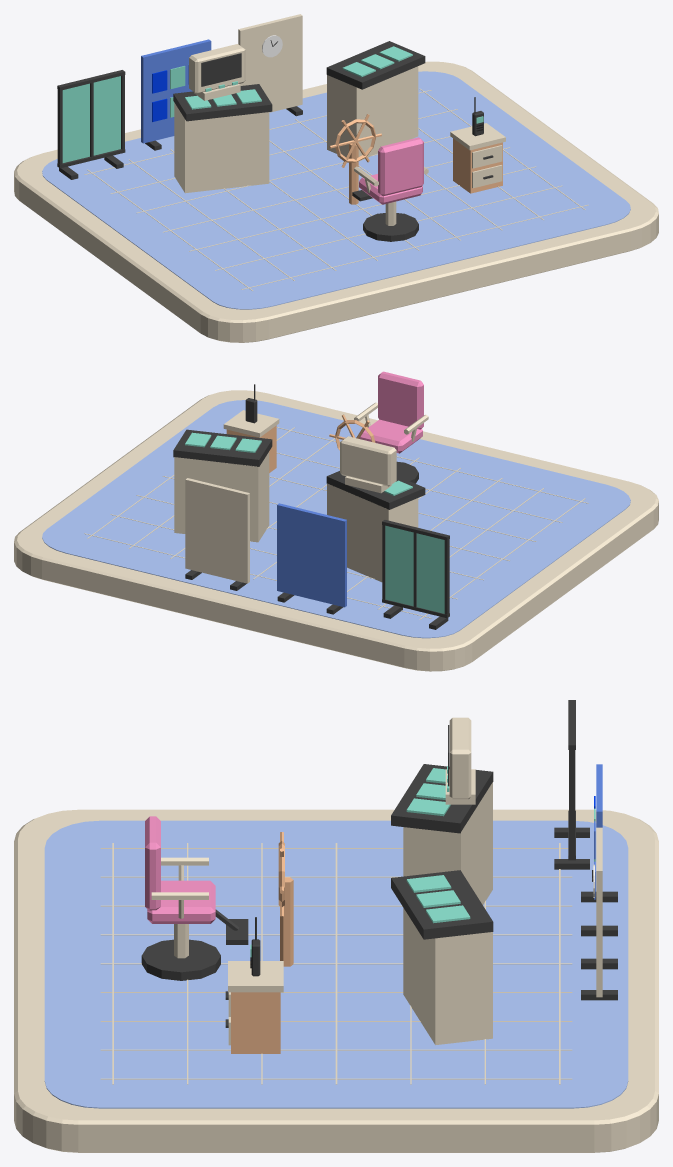
3 views of the same model, one above another, from view 1: azimuth 30°, elevation 25°; view 2: azimuth 150°, elevation 25°; view 3: azimuth 270°, elevation 25° (orthographic). The views are drawn at different scales.
Visible parts, largest first — view 1: COM-02 Floor Surface, COM-01 Rounded Base Direct, Console, Console.001, Panel.003, Panel.002, Back, Forward blue glazing.001, Forward blue glazing, Panel.001, Panel, Housing (+10 smaller); view 2: COM-02 Floor Surface, COM-01 Rounded Base Direct, Panel.002, Panel.003, Console, Console.001, Housing, Back, Forward blue glazing.001, Forward blue glazing, Panel.001, Panel (+4 smaller); view 3: COM-02 Floor Surface, COM-01 Rounded Base Direct, Console.001, Console, Panel.001, Body, Panel, Base, Seat, Housing, Top, Back (+8 smaller).
Boxes of the visible parts, left/top/right/bottom form: COM-02 Floor Surface: left=42, top=71, right=630, bottom=309; COM-01 Rounded Base Direct: left=14, top=61, right=658, bottom=342; Console: left=174, top=103, right=269, bottom=193; Console.001: left=327, top=66, right=418, bottom=161; Panel.003: left=238, top=14, right=302, bottom=112; Panel.002: left=141, top=39, right=211, bottom=143; Back: left=378, top=137, right=423, bottom=196; Forward blue glazing.001: left=93, top=76, right=120, bottom=155; Forward blue glazing: left=62, top=83, right=89, bottom=162; Panel.001: left=326, top=41, right=425, bottom=89; Panel: left=173, top=84, right=272, bottom=121; Housing: left=189, top=44, right=245, bottom=93; COM-02 Floor Surface: left=42, top=400, right=630, bottom=638; COM-01 Rounded Base Direct: left=14, top=390, right=658, bottom=671; Panel.002: left=277, top=503, right=346, bottom=607; Panel.003: left=185, top=478, right=249, bottom=583; Console: left=327, top=483, right=418, bottom=582; Console.001: left=174, top=451, right=269, bottom=542; Housing: left=340, top=436, right=396, bottom=486; Back: left=378, top=371, right=423, bottom=429; Forward blue glazing.001: left=385, top=525, right=413, bottom=606; Forward blue glazing: left=416, top=533, right=444, bottom=613; Panel.001: left=173, top=429, right=272, bottom=466; Panel: left=326, top=471, right=425, bottom=509; COM-02 Floor Surface: left=44, top=820, right=628, bottom=1108; COM-01 Rounded Base Direct: left=14, top=809, right=658, bottom=1152; Console.001: left=403, top=908, right=492, bottom=1045; Console: left=403, top=782, right=492, bottom=904; Panel.001: left=391, top=870, right=493, bottom=939; Body: left=231, top=992, right=280, bottom=1053; Panel: left=391, top=764, right=493, bottom=833; Base: left=141, top=939, right=220, bottom=980; Seat: left=147, top=880, right=215, bottom=923; Housing: left=449, top=717, right=471, bottom=799; Top: left=228, top=961, right=283, bottom=992; Back: left=145, top=816, right=160, bottom=910.
Bounding box in the file's own units: 6 × 1.88 × 5.2.
1 material, 1 textured.
